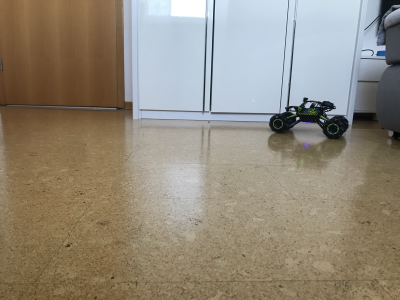remote control car: (268, 94, 351, 141)
